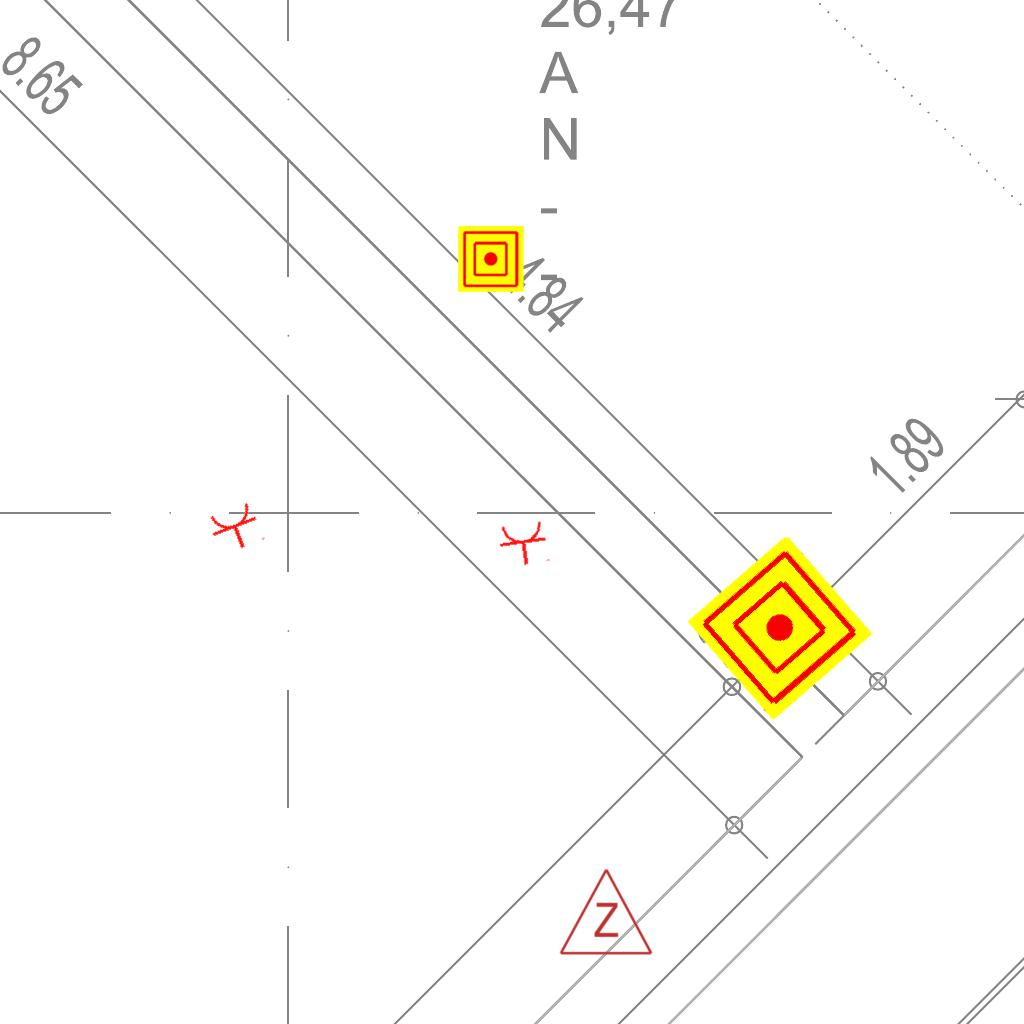NAM-Nichtautomatischer_Melder: (686, 534, 874, 722), (458, 226, 524, 292)
Schukosteckdose_einfach: (205, 498, 268, 558), (496, 519, 553, 569)
Zimmersignalleuchte: (556, 862, 654, 962)
